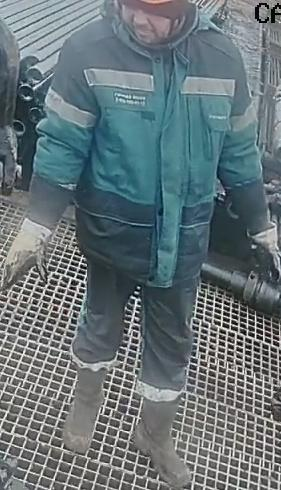gloves: (0, 211, 54, 296), (246, 222, 280, 280)
vest: (54, 16, 247, 287)
